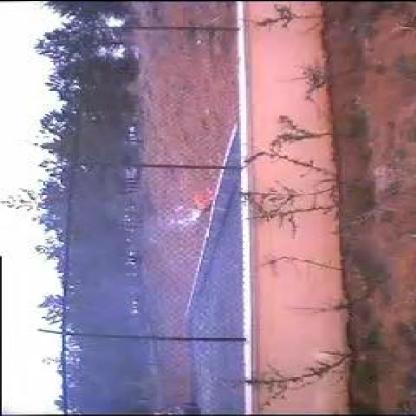-: (72, 206, 238, 330)
